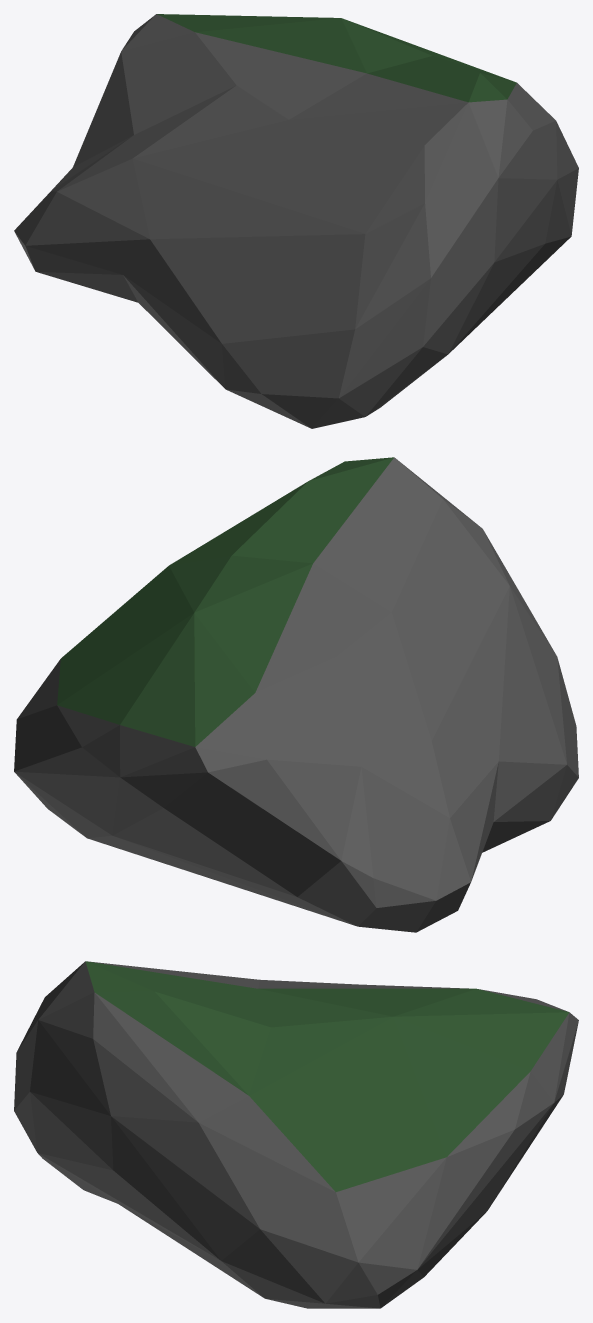
File: rock1.fbx
3 renders of one model, top to bottom at view 1: azimuth 30°, elevation 25°; view 2: azimuth 150°, elevation 25°; view 3: azimuth 270°, elevation 25°, orthographic. The views are drawn at different scales.
Parts seen in each view (by area): view 1: Rock1; view 2: Rock1; view 3: Rock1.
Boxes of the visible parts, box(x1,y1,x2,y2) form: Rock1: box(14, 14, 578, 428); Rock1: box(14, 457, 578, 932); Rock1: box(14, 961, 578, 1308).
Size of the model in its own units: 225 by 133 by 238.
